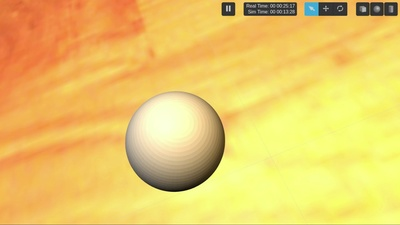mira_robot: (125, 91, 226, 193)
